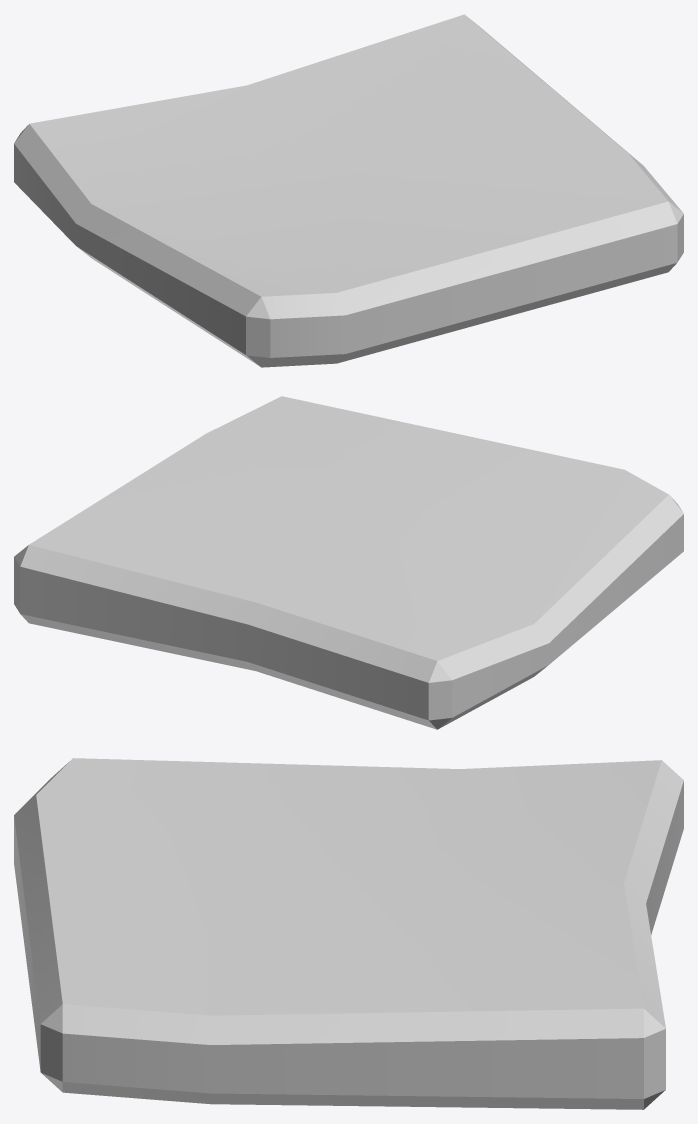
Rendered from SM_Stepping_Stone.fbx.
3 renders of one model, top to bottom at view 1: azimuth 30°, elevation 25°; view 2: azimuth 150°, elevation 25°; view 3: azimuth 270°, elevation 25°, orthographic. The views are drawn at different scales.
Visible parts, largest first — view 1: SM_Stepping_Stone; view 2: SM_Stepping_Stone; view 3: SM_Stepping_Stone.
Part boxes in pixels (x1,y1,x2,y2): SM_Stepping_Stone: (14, 14, 683, 367); SM_Stepping_Stone: (14, 396, 683, 729); SM_Stepping_Stone: (14, 758, 683, 1109).
Bounding box in the file's own units: 70.56 × 11.43 × 68.56.
